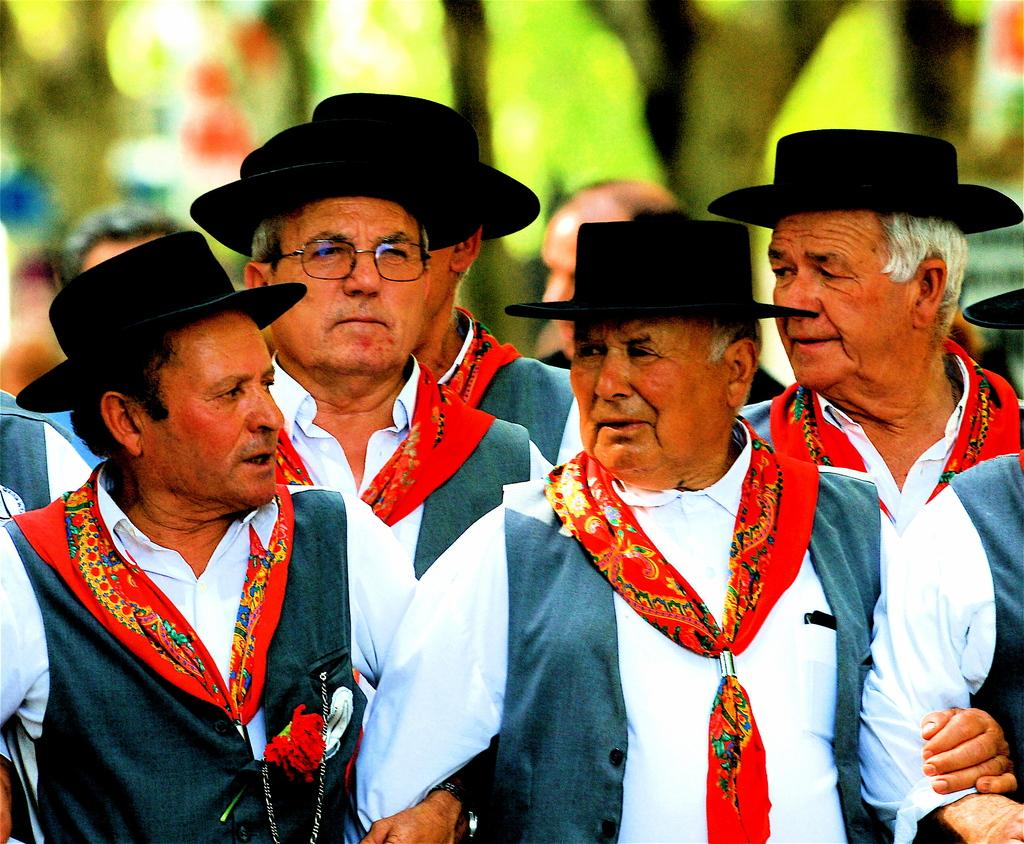Hat: (15, 226, 308, 412), (190, 123, 490, 259), (314, 90, 542, 239), (504, 221, 821, 326), (708, 126, 1023, 230), (960, 283, 1023, 328)
